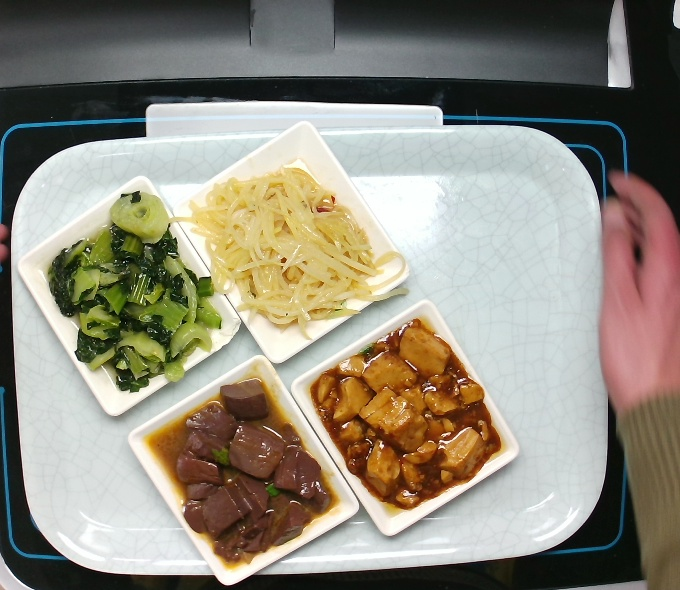wcq-MaPoDouFu: (311, 321, 498, 517)
wcq-NiuXue: (152, 374, 339, 570)
wcq-TuDouSi: (201, 142, 388, 338)
wcq-YouDongCai: (40, 195, 227, 391)
